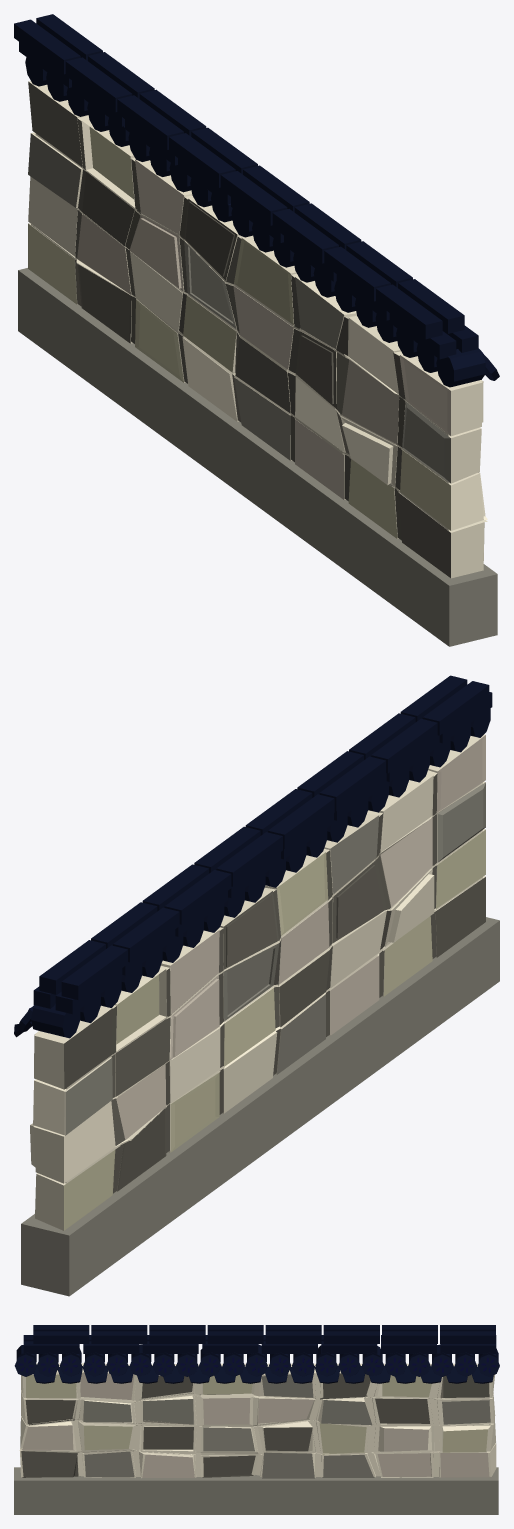
File: tranditional_wall.fbx
The picture shows the model from 3 angles, top to bottom: view 1: azimuth 30°, elevation 25°; view 2: azimuth 150°, elevation 25°; view 3: azimuth 270°, elevation 25°; orthographic projection. The views are drawn at different scales.
Visible parts, largest first — view 1: Cube, Cube.001, Cube.003, Cube.002, Circle; view 2: Cube, Cube.001, Cube.003, Cube.002, Circle; view 3: Cube, Cube.001, Cube.002, Circle, Circle.001, Cube.003, Cylinder.021.
Boxes of the visible parts, x1,y1,x2,y2 form: Cube: (28,81,487,578); Cube.001: (18,268,497,646); Cube.003: (14,19,456,359); Cube.002: (36,14,478,352); Circle: (25,57,499,387); Cube: (30,734,485,1230); Cube.001: (21,917,499,1296); Cube.003: (55,681,492,1014); Cube.002: (33,675,467,1008); Circle: (17,708,490,1038); Cube: (19,1363,496,1478); Cube.001: (14,1467,498,1514); Cube.002: (23,1331,496,1353); Circle: (14,1344,499,1376); Circle.001: (33,1366,493,1383); Cube.003: (23,1325,496,1341); Cylinder.021: (18,1357,496,1372).
Bounding box in the file's own units: 29.16 × 115 × 290.
